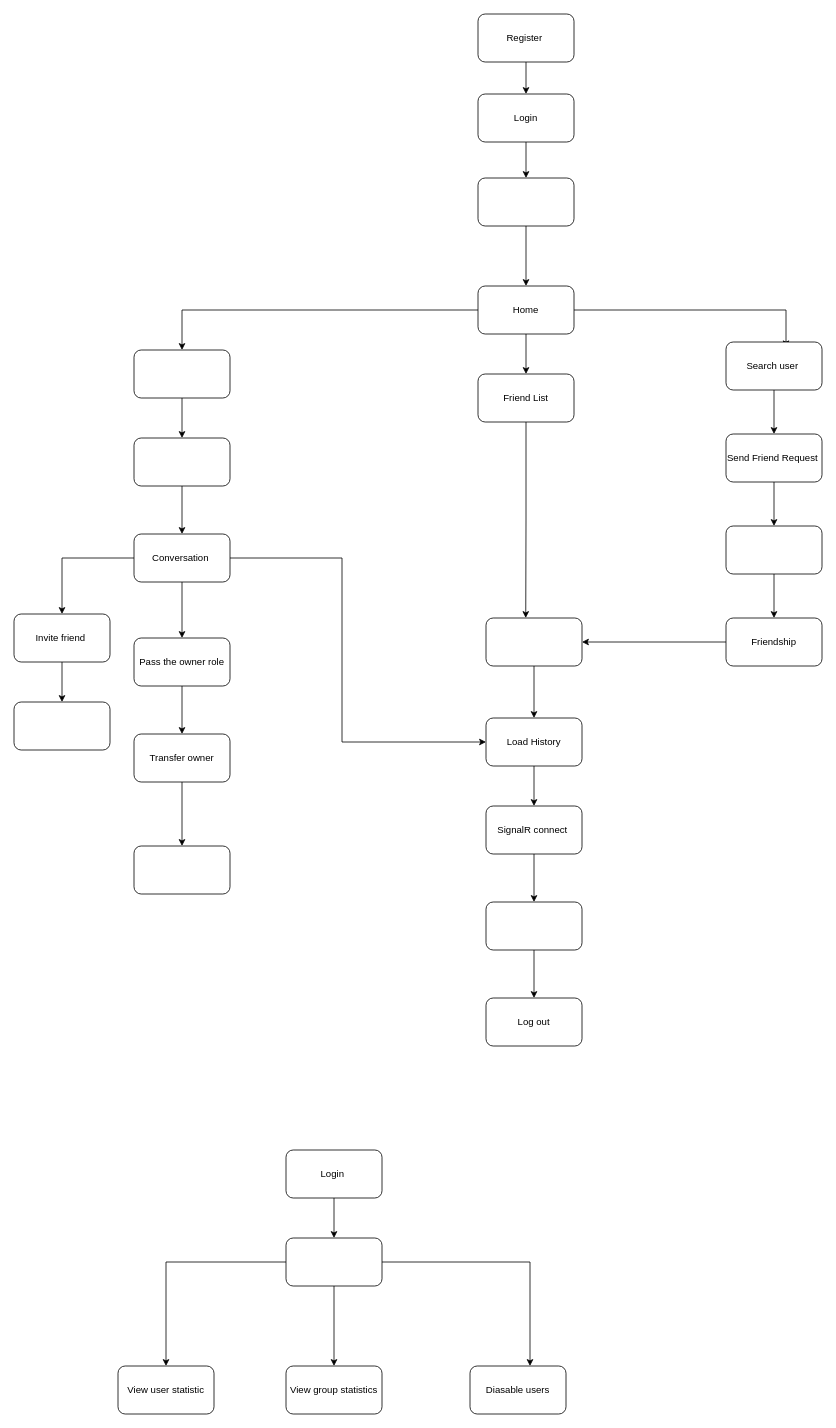
Some shapes in this 836 by 1428 pixel diagram are drawn without their labels. The shapes that lost their labels are listed below. From the top down, each one's centre as x and y in pixels, then its label:
At (x=525, y=201): "Authentication/Token".
At (x=181, y=373): "Create group".
At (x=181, y=461): "Select member".
At (x=773, y=549): "Accept/Reject Friend".
At (x=533, y=641): "Open conversation".
At (x=61, y=725): "Add member".
At (x=181, y=869): "Leave group".
At (x=533, y=925): "Send/Receive Message".
At (x=333, y=1261): "Dashboard".
